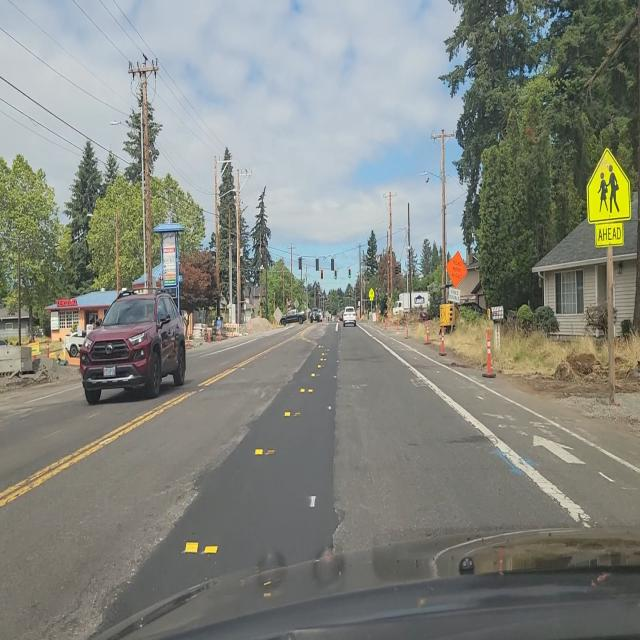car: (80, 286, 190, 402), (280, 310, 305, 326), (342, 307, 357, 328), (310, 308, 322, 323)
crosswalk-sign: (587, 149, 633, 249), (368, 288, 374, 300), (366, 290, 371, 302)
delineator: (486, 328, 492, 376), (439, 328, 446, 356), (425, 323, 430, 344), (405, 319, 409, 338), (396, 319, 400, 334), (46, 343, 50, 358), (384, 314, 388, 328), (273, 319, 277, 328)
